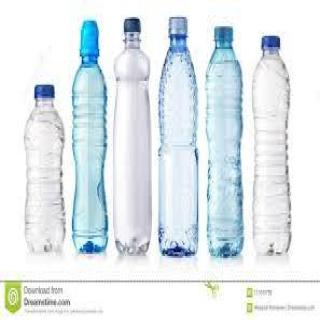Plastic-bottle: (159, 14, 202, 261), (113, 16, 155, 261), (71, 16, 111, 259), (251, 35, 294, 261), (206, 26, 247, 263), (24, 82, 68, 259)
